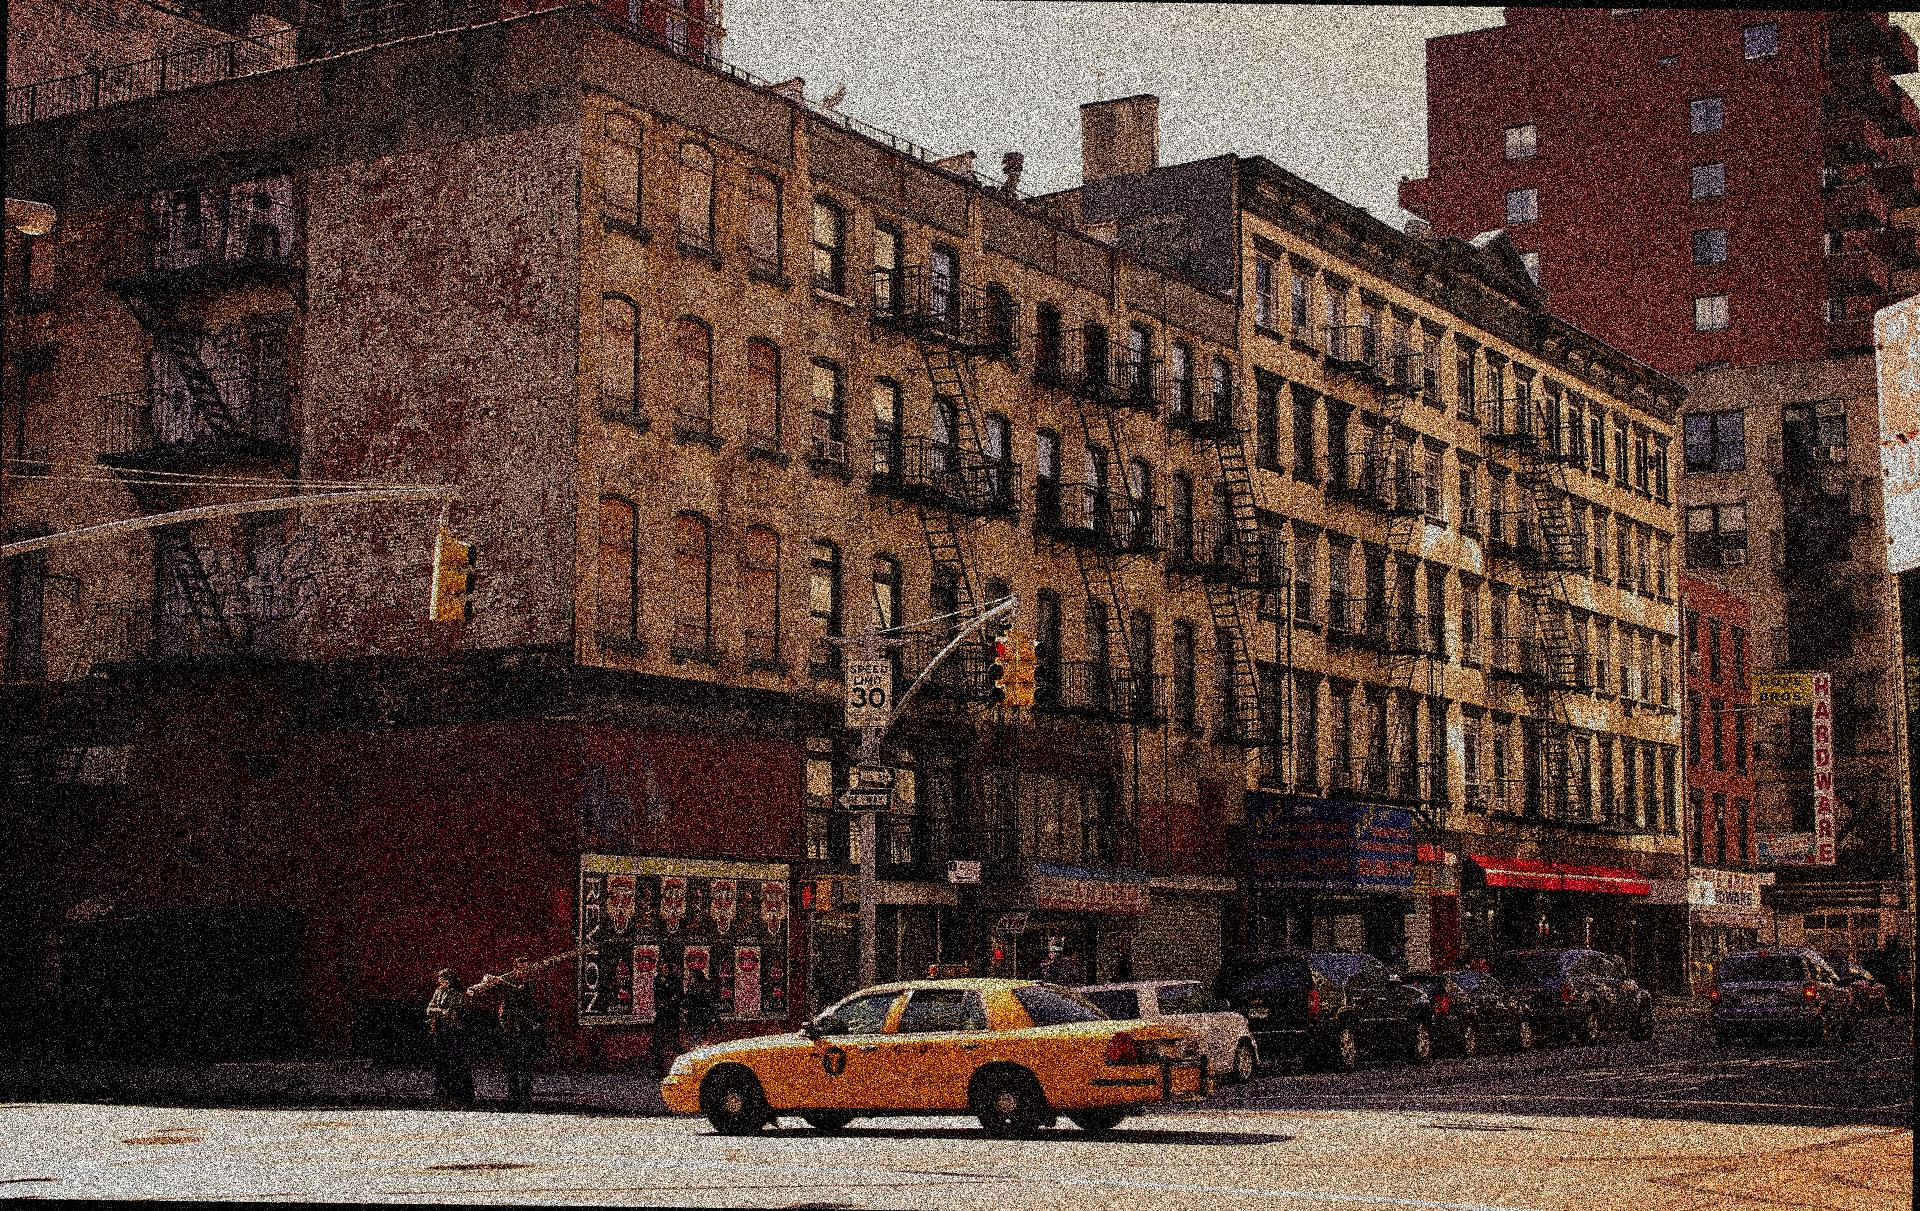taxi: (653, 992, 1197, 1148)
